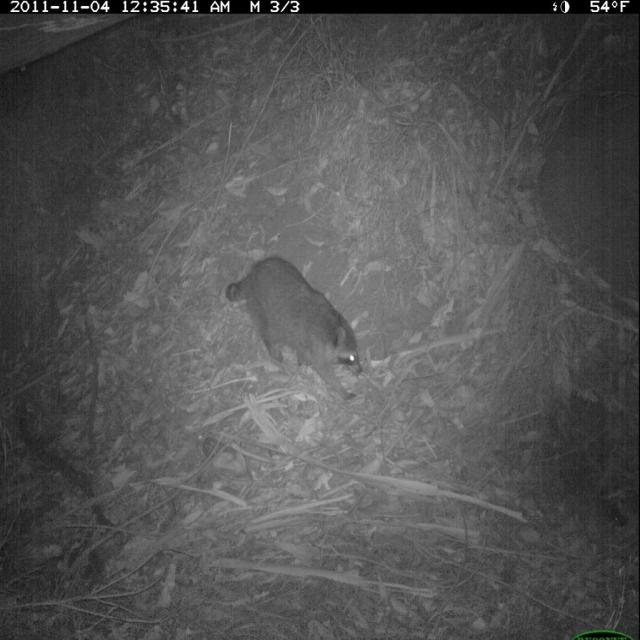raccoon: (223, 252, 374, 421)
